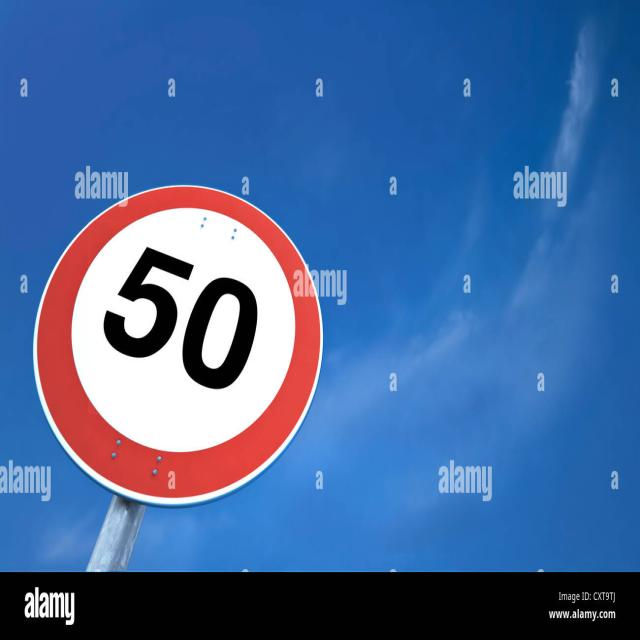speed_50: (34, 183, 323, 502)
